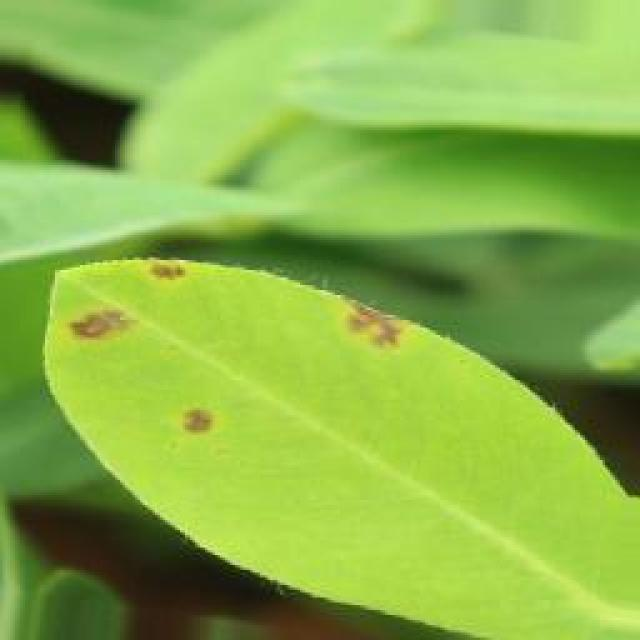Sigatoka: (323, 287, 419, 390), (37, 286, 153, 366), (160, 390, 230, 450), (136, 235, 192, 303)
